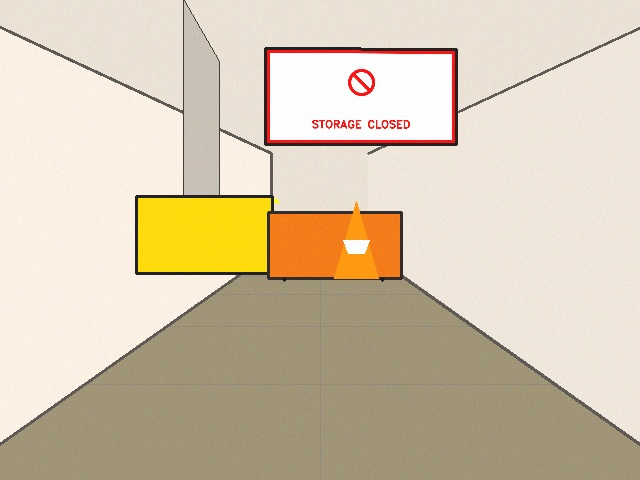cart: (268, 212, 401, 278)
directional_sign: (265, 48, 456, 144)
forklift: (136, 196, 279, 273)
obstacle: (334, 201, 378, 278)
